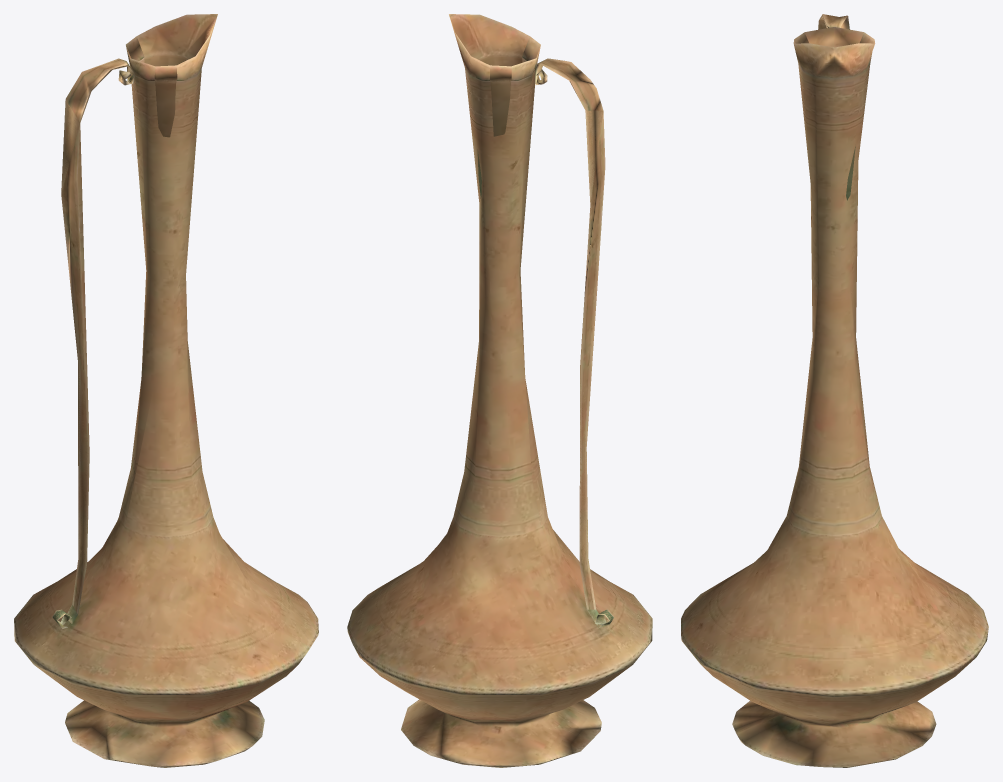
File: brass_vase_02.glb
3 renders of one model, left to right at view 1: azimuth 30°, elevation 25°; view 2: azimuth 150°, elevation 25°; view 3: azimuth 270°, elevation 25°, orthographic.
Visible parts, largest first — view 1: brass_vase_02; view 2: brass_vase_02; view 3: brass_vase_02.
Part boxes in pixels (bbox=[...]): brass_vase_02: bbox=[14, 14, 318, 767]; brass_vase_02: bbox=[347, 14, 652, 767]; brass_vase_02: bbox=[681, 14, 988, 767].
Size of the model in its own units: 0.2096 by 0.5278 by 0.2092.
1 material, 1 textured.
